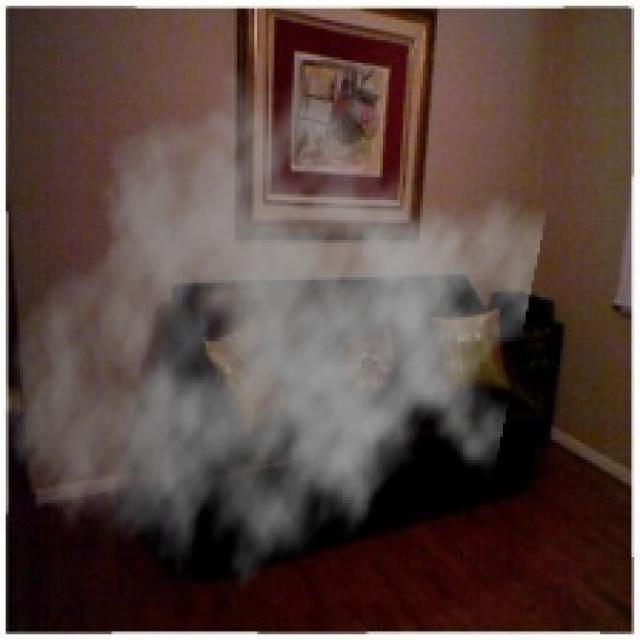smoke: (3, 63, 548, 611)
